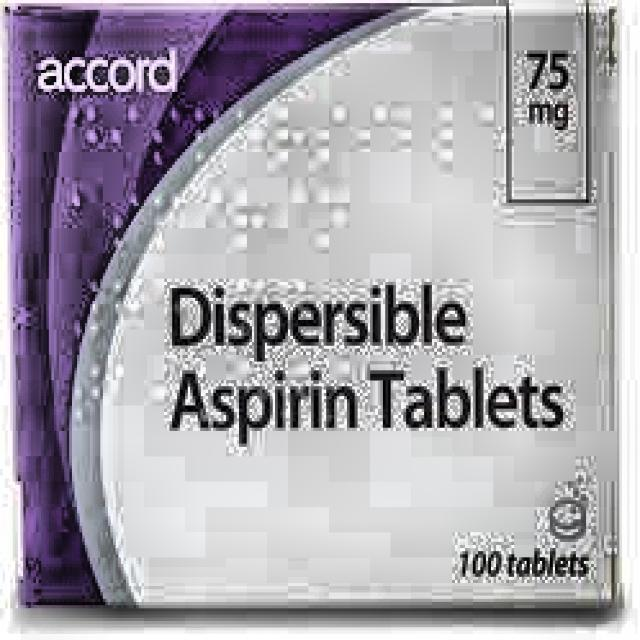Aspirin: (6, 13, 612, 604)
